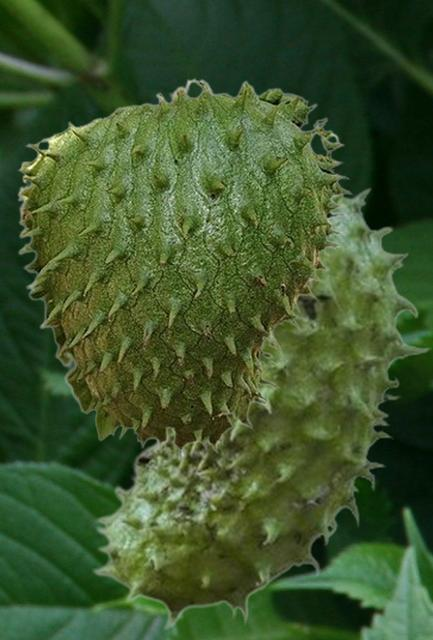guyabano: (90, 168, 430, 630), (17, 77, 352, 460)
